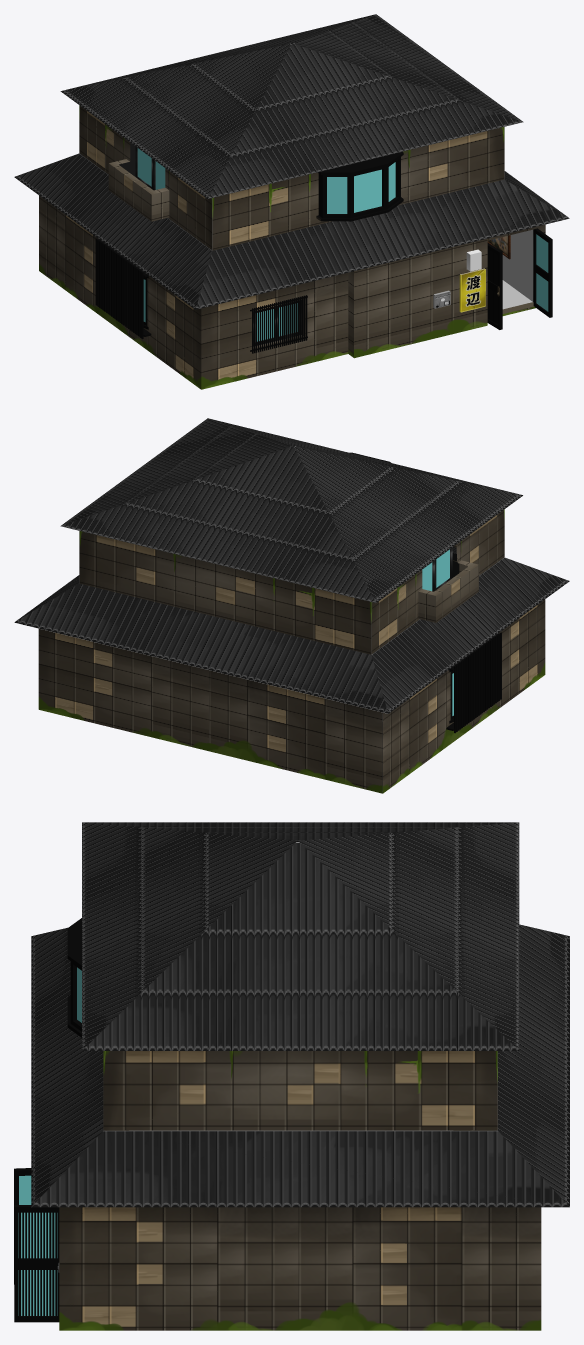
Rendered from House_Mei.fbx.
3 renders of one model, top to bottom at view 1: azimuth 30°, elevation 25°; view 2: azimuth 150°, elevation 25°; view 3: azimuth 270°, elevation 25°, orthographic. The views are drawn at different scales.
Parts seen in each view (by area): view 1: A2, A, A3, Cube.054, Cube.056, Cube.078, Cube.058, Cube.071, Cube.067, Cube.063; view 2: A2, A, A3, Cube.054, Cube.067; view 3: A, A2, A3, Cube.078, Cube.058.
Boxes of the visible parts, left/top/right/bottom form: A2: left=14, top=43, right=569, bottom=309; A: left=60, top=14, right=523, bottom=198; A3: left=39, top=195, right=545, bottom=389; Cube.054: left=95, top=238, right=143, bottom=339; Cube.056: left=252, top=295, right=307, bottom=353; Cube.078: left=533, top=228, right=552, bottom=317; Cube.058: left=487, top=243, right=502, bottom=329; Cube.071: left=459, top=268, right=485, bottom=312; Cube.067: left=135, top=146, right=165, bottom=190; Cube.063: left=253, top=300, right=301, bottom=346; A2: left=14, top=446, right=569, bottom=713; A: left=60, top=418, right=522, bottom=602; A3: left=38, top=599, right=545, bottom=793; Cube.054: left=454, top=632, right=501, bottom=733; Cube.067: left=422, top=547, right=452, bottom=591; A: left=82, top=822, right=519, bottom=1050; A2: left=31, top=841, right=569, bottom=1207; A3: left=59, top=1207, right=541, bottom=1330; Cube.078: left=14, top=1205, right=59, bottom=1322; Cube.058: left=14, top=1168, right=31, bottom=1284.
Size of the model in its own units: 1371 by 861 by 1188.
